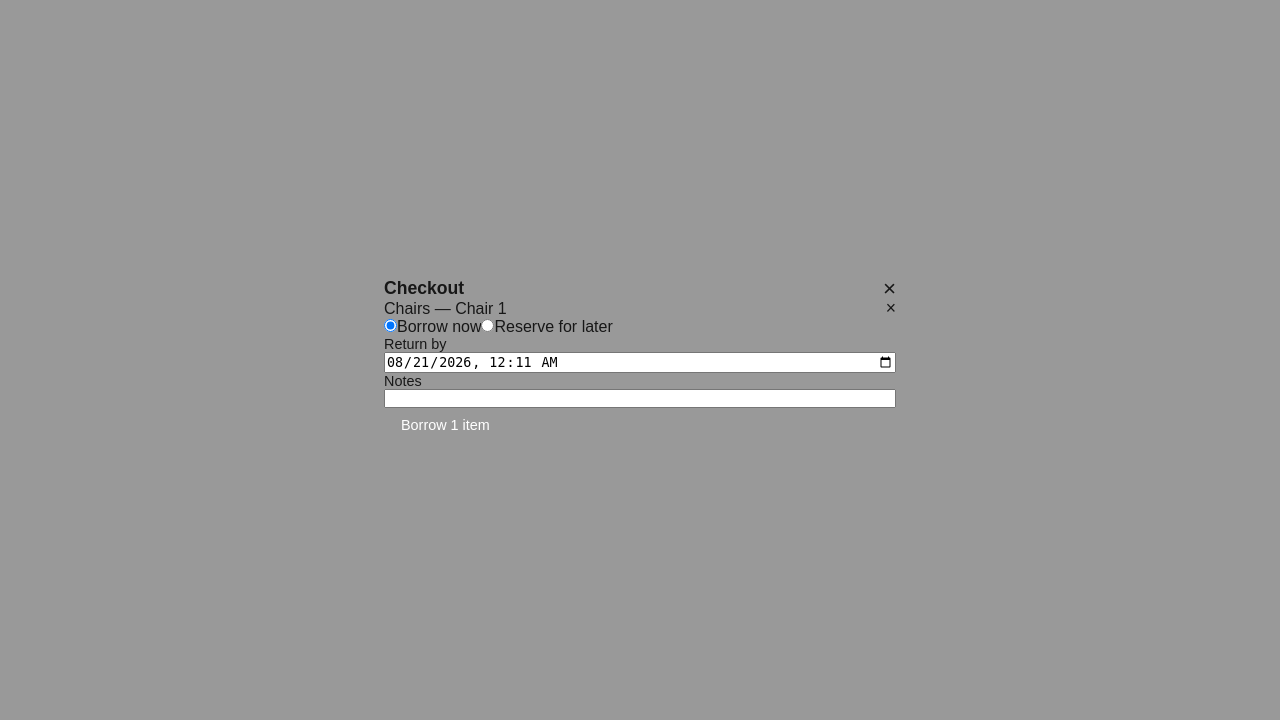
shows an inline error and keeps the cart intact on failure
Click the button "Borrow 1 item". click: point(445, 425)
box: [384,408,507,442]
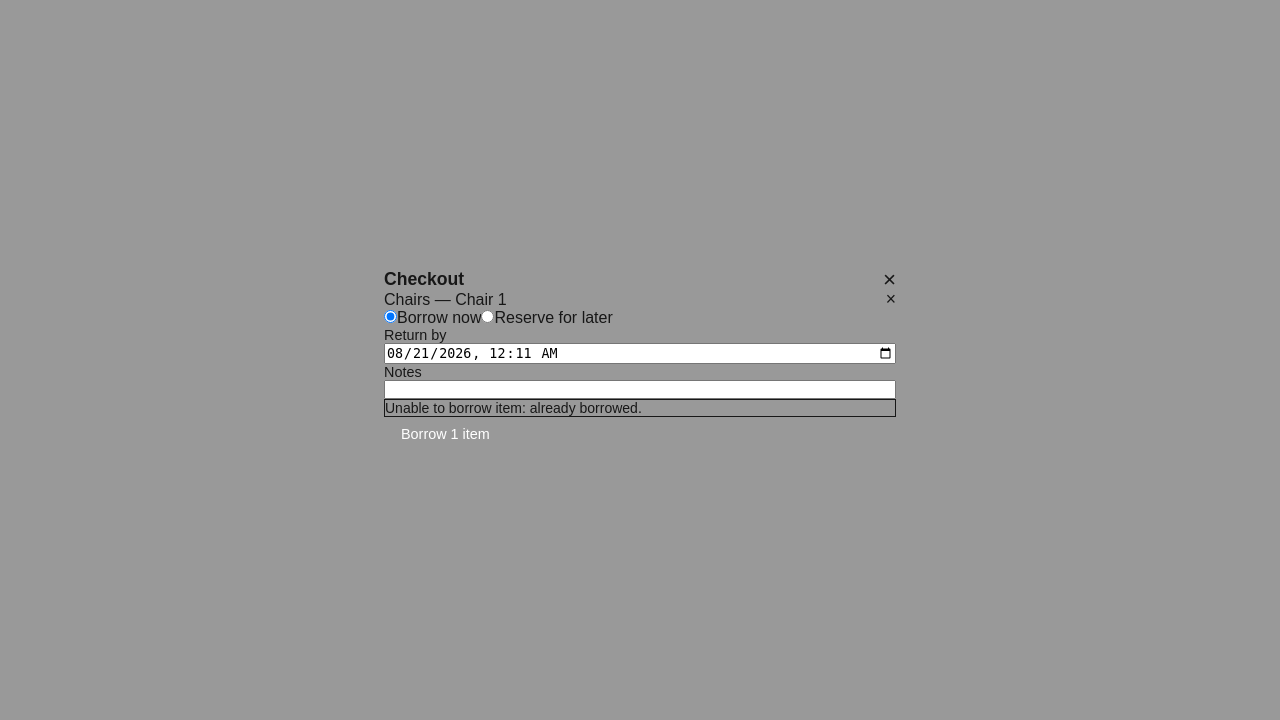
Expected: the message reads "Unable to borrow item: already borrowed.", [385,400,642,416]
